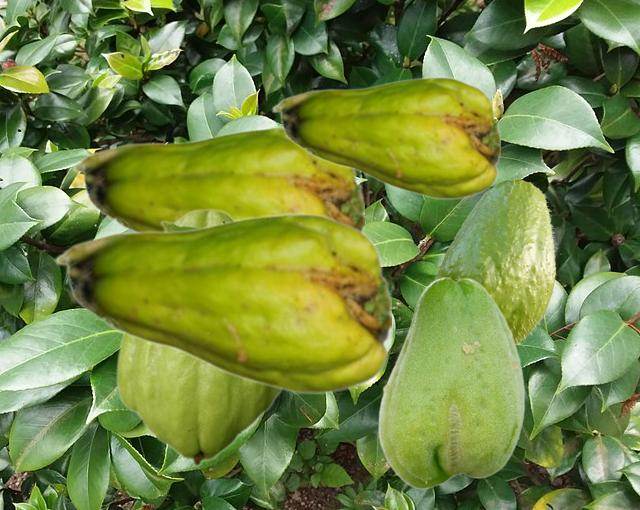sayote: (53, 212, 390, 394), (115, 208, 282, 466), (377, 276, 524, 488), (71, 126, 363, 230), (271, 76, 499, 199), (433, 178, 556, 345)
